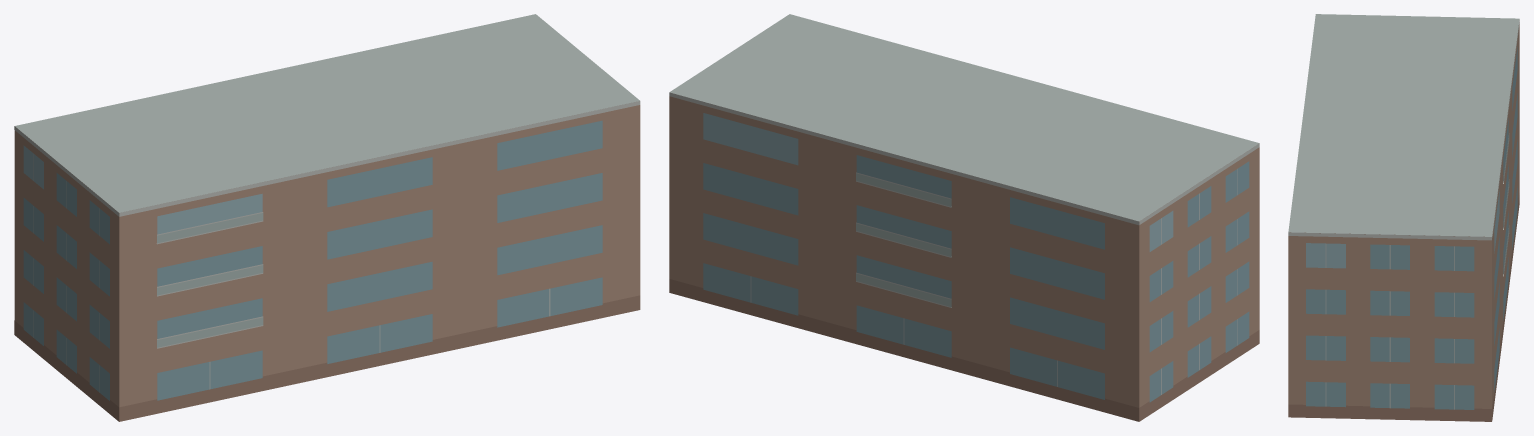
File: survey-upis-32774996.glb
The picture shows the model from 3 angles, left to right: view 1: azimuth 30°, elevation 25°; view 2: azimuth 150°, elevation 25°; view 3: azimuth 270°, elevation 25°; orthographic projection. The views are drawn at different scales.
Parts seen in each view (by area): view 1: survey-upis-32774996.tmp; view 2: survey-upis-32774996.tmp; view 3: survey-upis-32774996.tmp.
Part boxes in pixels (left/top/right/bottom): survey-upis-32774996.tmp: left=14, top=14, right=640, bottom=421; survey-upis-32774996.tmp: left=669, top=14, right=1259, bottom=421; survey-upis-32774996.tmp: left=1288, top=14, right=1519, bottom=421.
Bounding box in the file's own units: 33.1 × 12.8 × 14.52.
